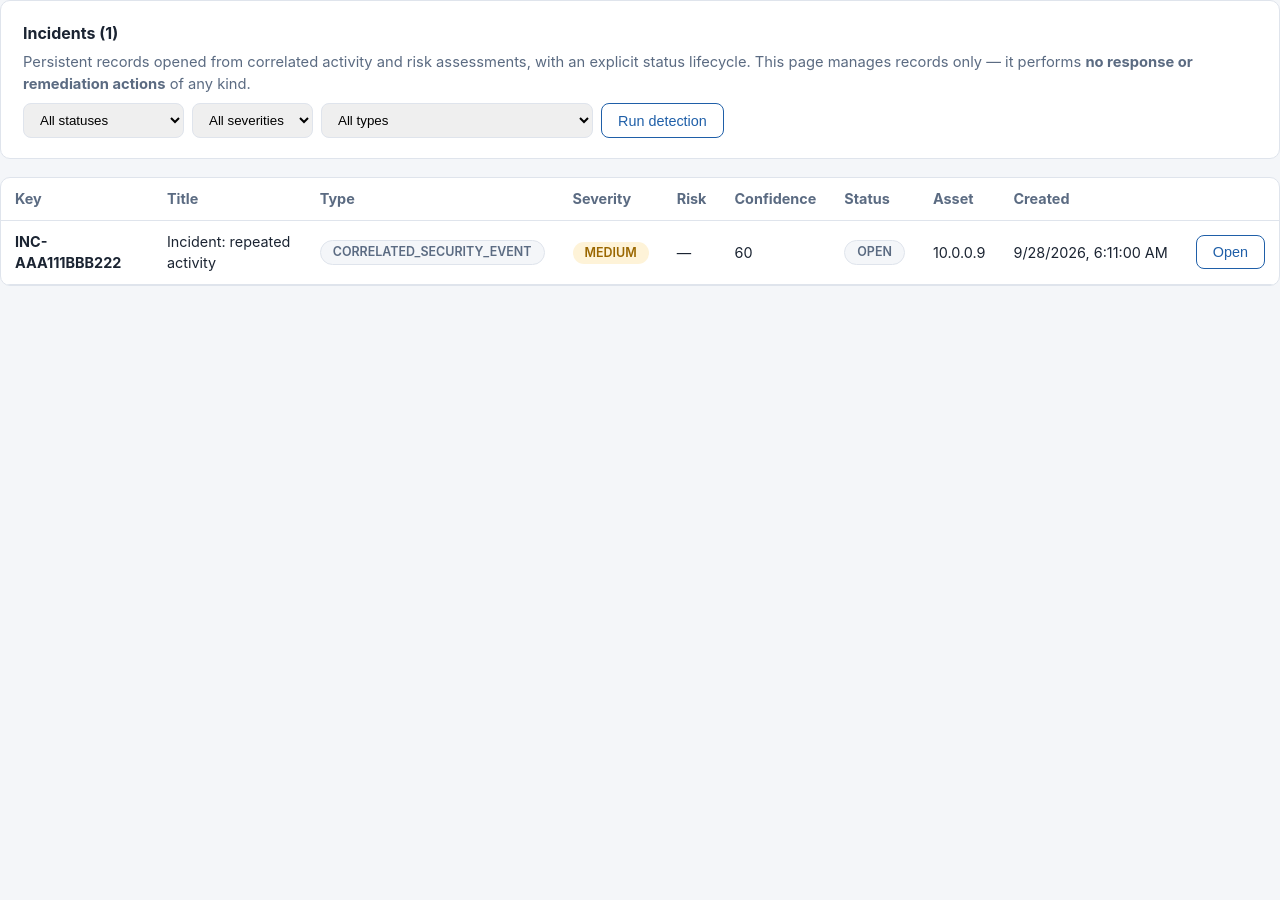
Test case: Incident responses (Step 18) › lists responses with distinct statuses and offers safe actions only
What coordinates should you click on to do the following:
click the button "Open"
I would click on:
 (1230, 252)
Its box is [1196, 235, 1265, 269].
(page scrolled)
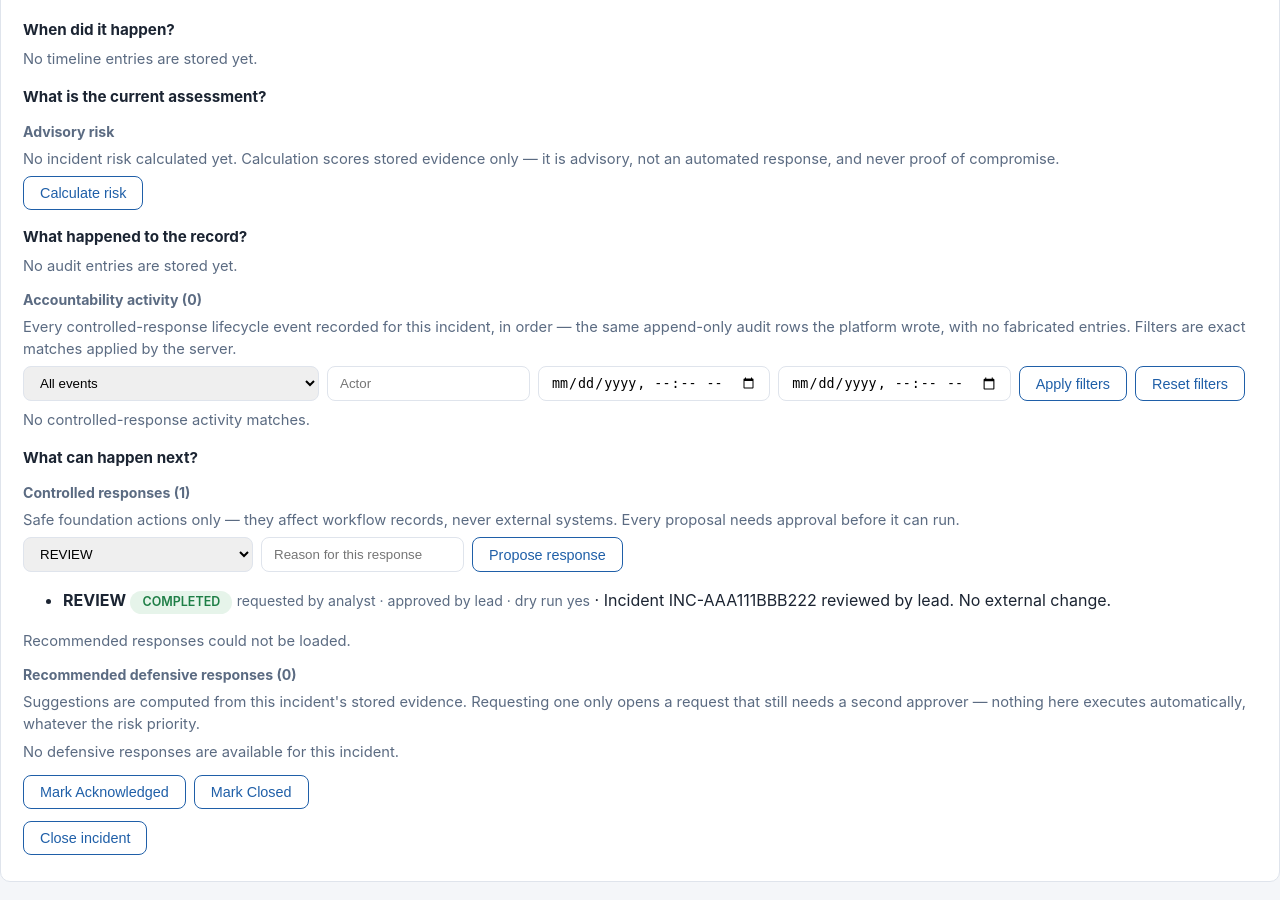
expect the heading "Controlled responses (1)" is shown: met, box [23, 484, 190, 501]
expect the text "COMPLETED" is shown: met, box [130, 591, 232, 614]
expect the text "No external change" is shown: met, box [604, 590, 1111, 610]
